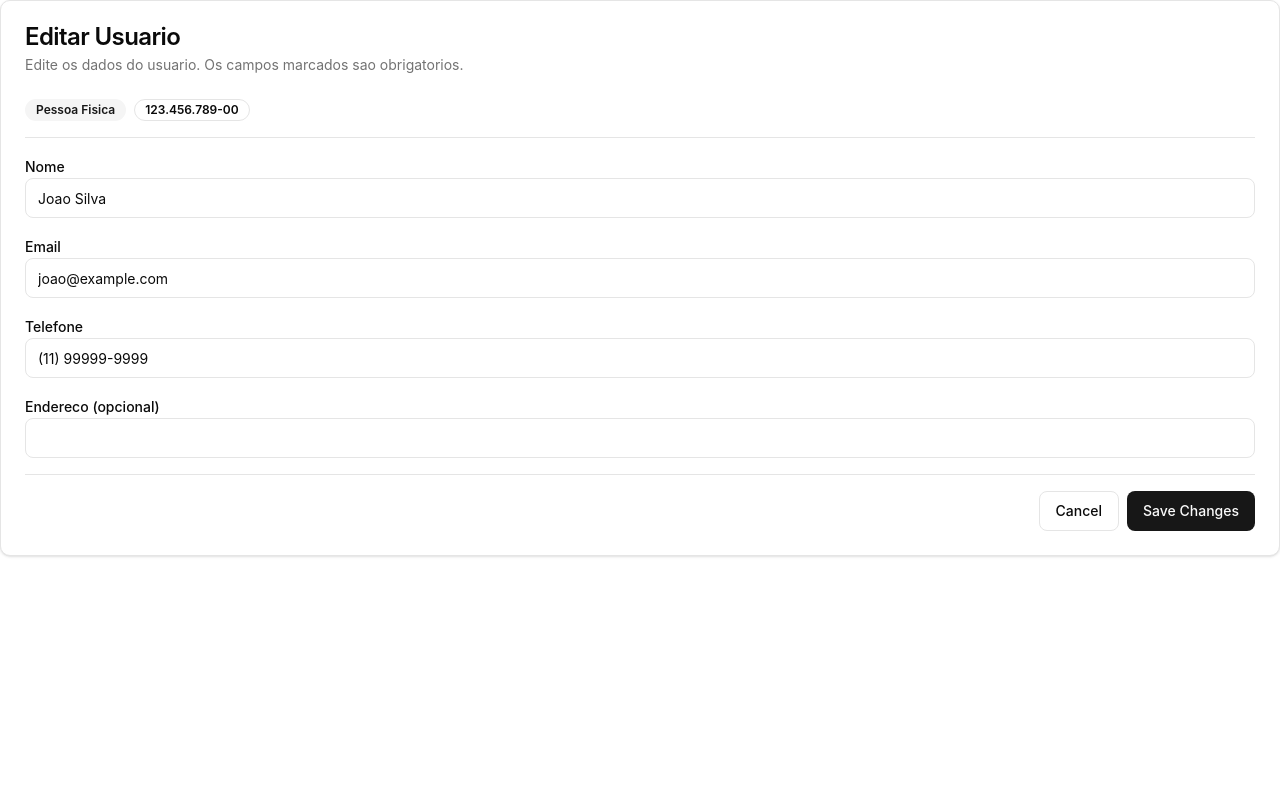
Test: EditUserForm › shows validation errors for short name
The width and height of the screenshot is (1280, 800).
Replace the text in the field labelled "Nome" with "A" at point(640, 198), box [25,178,1255,218]
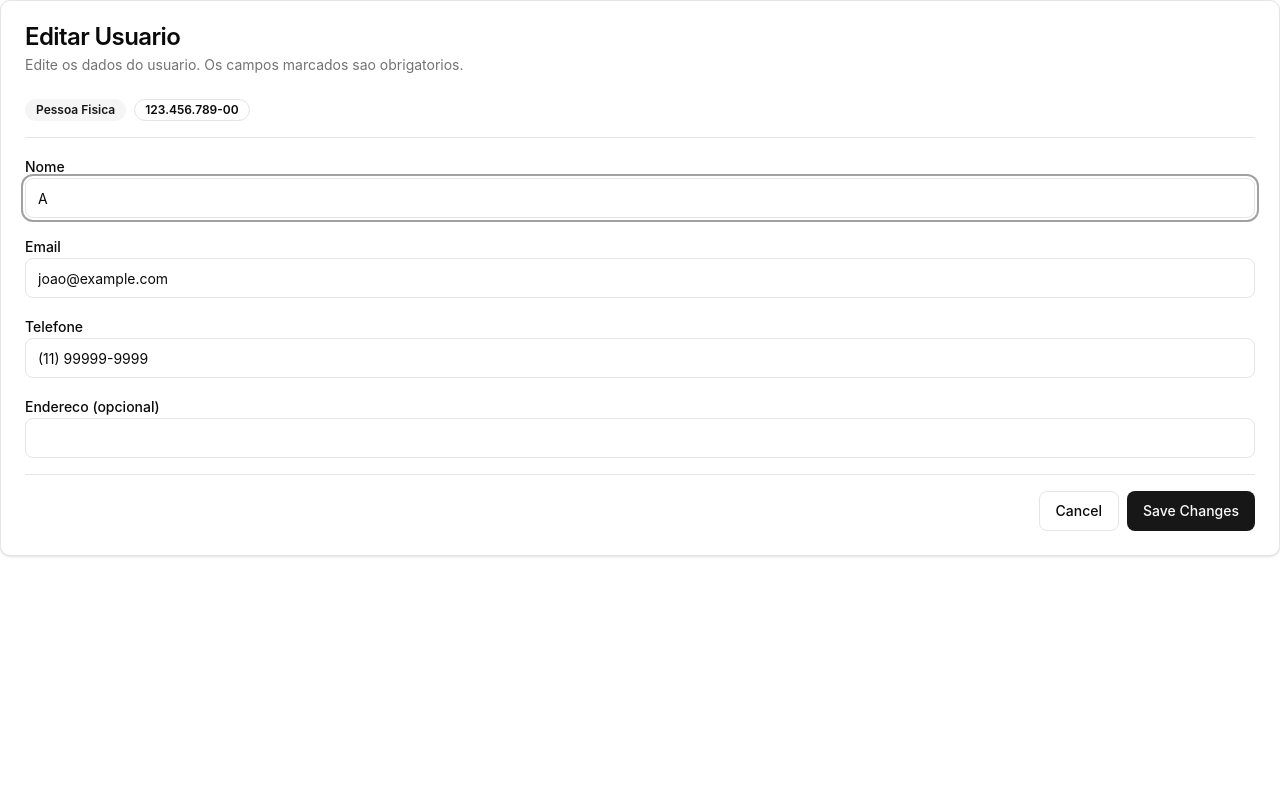
Click the button "Save Changes" at point(1191, 511), box [1127,491,1255,531]
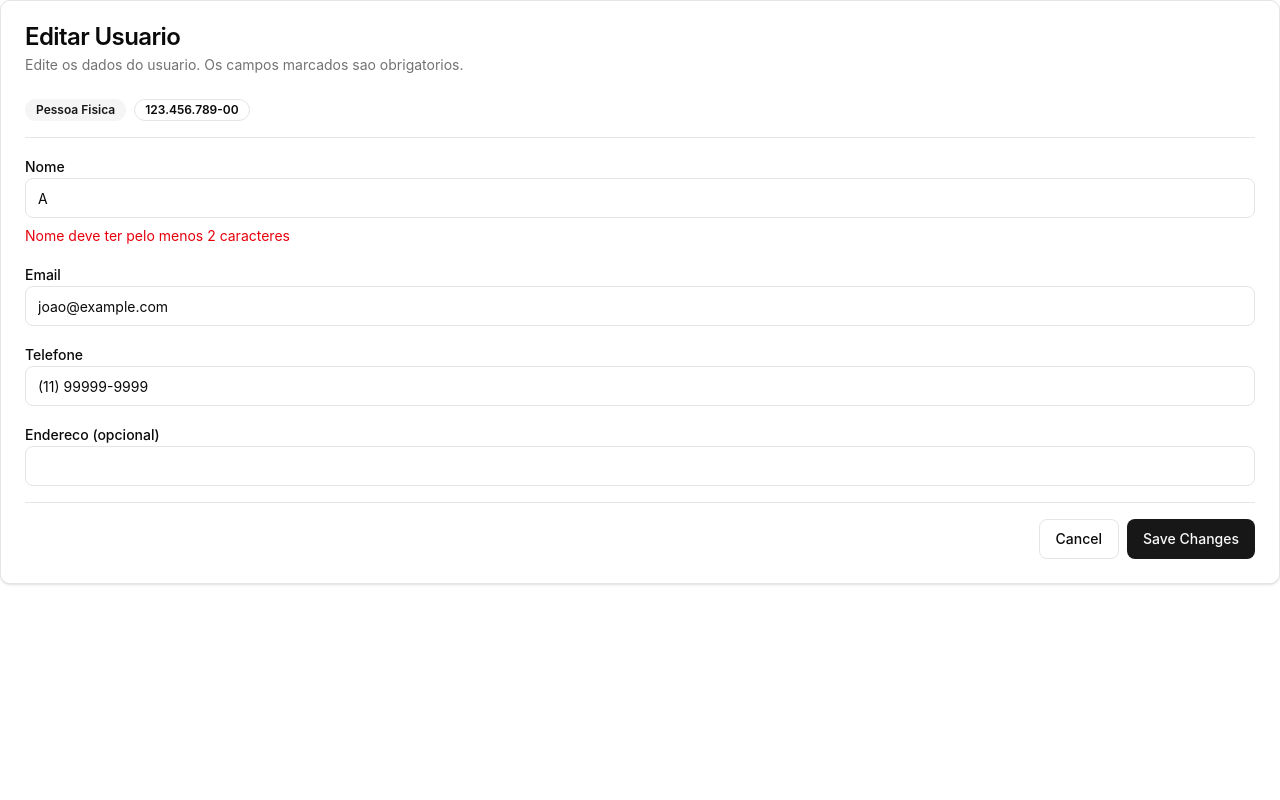
Check: the text "Nome deve ter pelo menos 2 caracteres" is shown, box [25,227,290,244]
